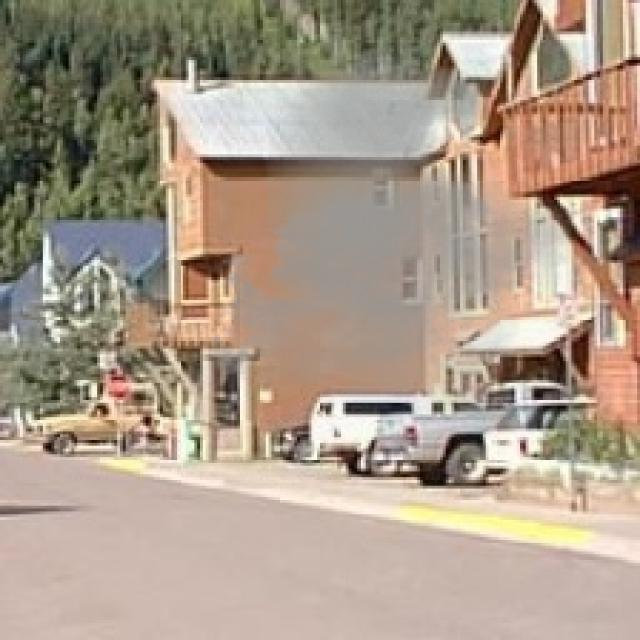smoke: (197, 40, 589, 429)
